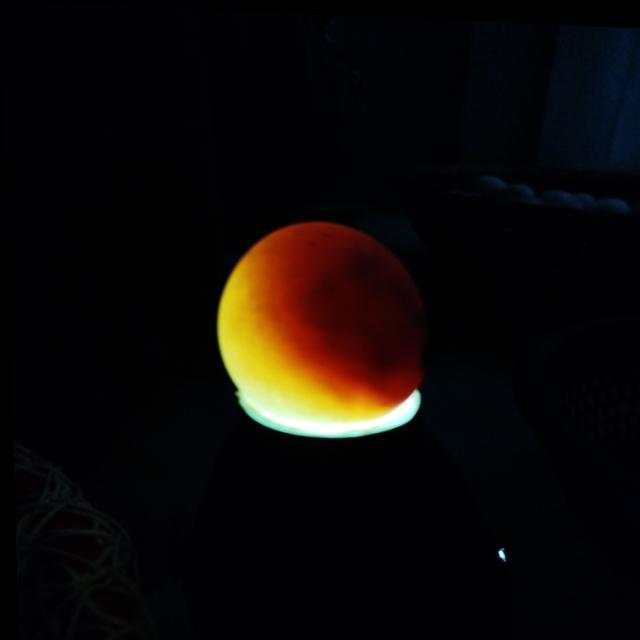Area Infectada: (302, 246, 431, 387)
